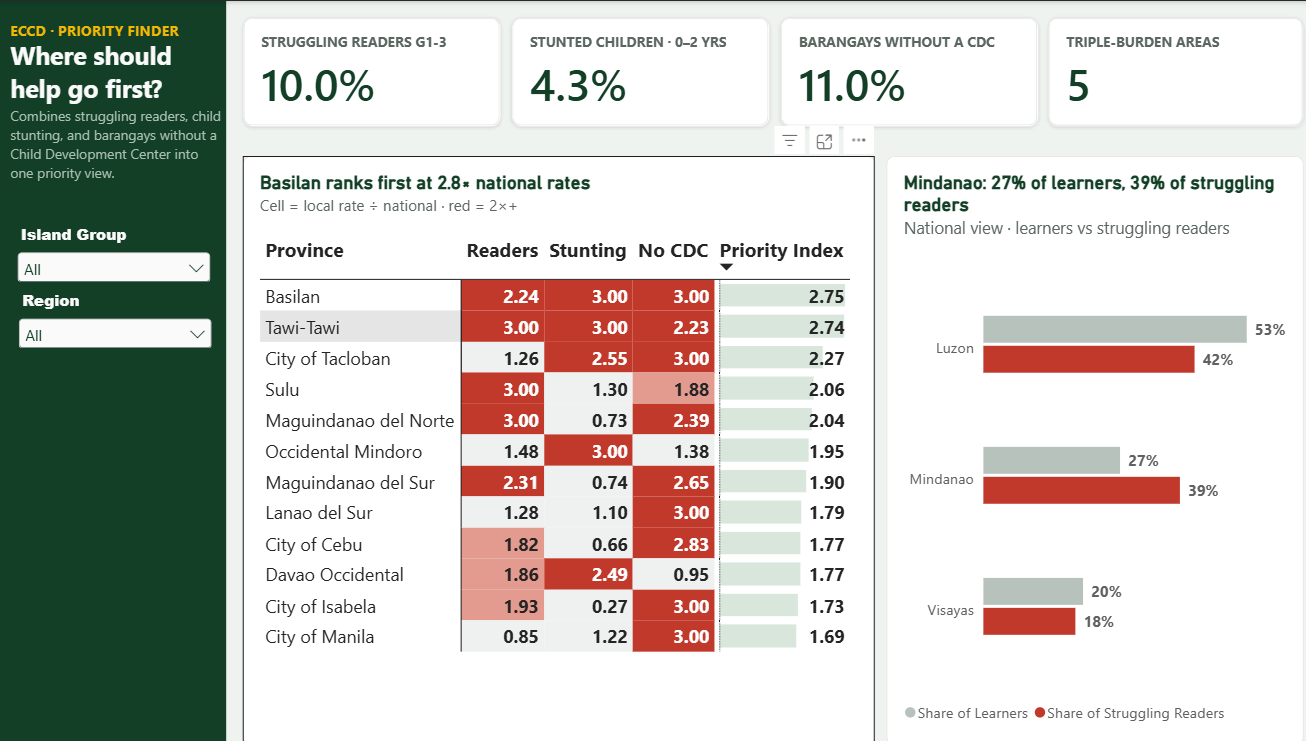

Layout of this report page (visuals, bound fields, positions):
{"tool":"powerbi","page":{"name":"Overview","canvas":[1280,720],"ordinal":0},"visuals":[{"type":"shape","box":[0,0,220,720],"z":0},{"type":"textbox","box":[11,0,205,205],"z":1000},{"type":"slicer","fields":{"Values":["Province.Island Group"]},"box":[13.7,215,196,56],"z":2000},{"type":"slicer","fields":{"Values":["Province.Region"]},"box":[14,280,196,56],"z":2001},{"type":"cardVisual","fields":{"Data":["Province.Struggling Readers Rate"]},"box":[236,16,250,106],"z":2002},{"type":"cardVisual","fields":{"Data":["Province.Stunting Rate"]},"box":[496,16.2,250,106],"z":2003},{"type":"cardVisual","fields":{"Data":["Province.No CDC Rate"]},"box":[756,16.2,250,106],"z":2004},{"type":"cardVisual","fields":{"Data":["Province.Triple Burden Provinces"]},"box":[1016,16,248,106],"z":2005},{"type":"pivotTable","fields":{"Rows":["Province.Province"],"Values":["Sum(Province.Struggling Readers Ratio)","Sum(Province.Stunting Ratio)","Sum(Province.No CDC Ratio)","Sum(Province.ECCD Priority Index)"]},"box":[235.7,150,612.9,570],"z":2006},{"type":"clusteredBarChart","title":"Mindanao: 27% of learners, 39% of struggling readers","fields":{"Category":["Province.Island Group"],"Y":["Province.Share of Learners","Province.Share of Struggling Readers"]},"box":[860,150,404,570],"z":2007}]}

Visuals, with their boxes in screenshot pixels (x1, y1, x2, y2), scaled from the page's 1280x720 canvas onto the 1306x741 screenshot:
shape: bbox=[0, 0, 224, 740]
textbox: bbox=[11, 0, 220, 211]
slicer - Province.Island Group: bbox=[14, 221, 214, 279]
slicer - Province.Region: bbox=[14, 288, 214, 346]
cardVisual - Province.Struggling Readers Rate: bbox=[241, 16, 496, 126]
cardVisual - Province.Stunting Rate: bbox=[506, 17, 761, 126]
cardVisual - Province.No CDC Rate: bbox=[771, 17, 1026, 126]
cardVisual - Province.Triple Burden Provinces: bbox=[1037, 16, 1290, 126]
pivotTable - Province.Province x Sum(Province.Struggling Readers Ratio): bbox=[240, 154, 866, 740]
"Mindanao: 27% of learners, 39% of struggling readers" clusteredBarChart: bbox=[877, 154, 1290, 740]
